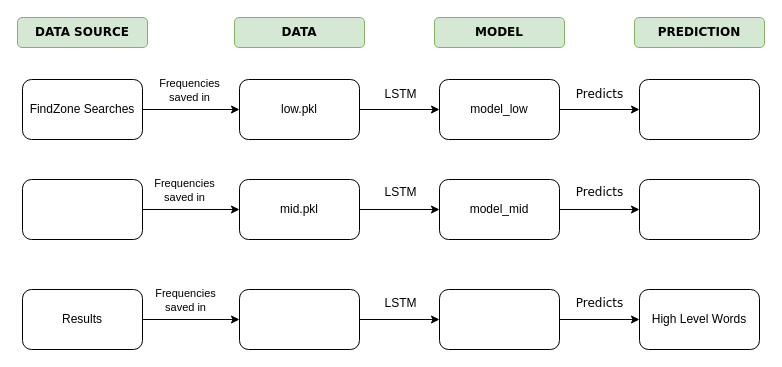
Image size: 782x367. Some labels were removed from this diagram. Each missing label, with the centre of its shape:
"high.pkl" goes at (299,319).
"Low level words" goes at (699,109).
"Medium Level Words" goes at (699,209).
"model_high" goes at (499,319).
"UnderstandZone Searches" goes at (82,209).
